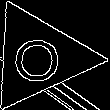O_N: (13, 30, 65, 83)
